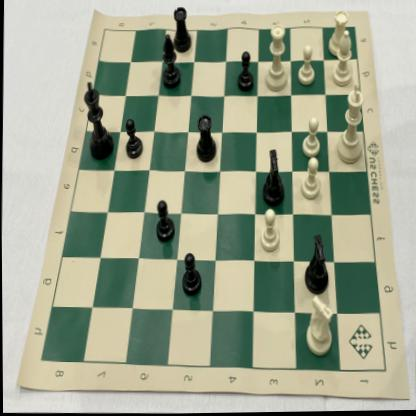black-bishop: (157, 33, 183, 93)
black-king: (79, 77, 116, 162)
black-knight: (299, 229, 333, 298), (258, 144, 287, 213)
black-pawn: (176, 247, 203, 300), (153, 194, 178, 247), (235, 49, 258, 97), (122, 113, 143, 163)
black-rook: (191, 110, 219, 168), (169, 2, 194, 56)
white-bishop: (329, 30, 357, 88)
white-king: (333, 80, 367, 168)
white-knight: (300, 292, 337, 363)
white-pawn: (292, 40, 319, 91), (255, 207, 283, 256), (297, 155, 323, 205), (298, 114, 322, 162)
white-queen: (259, 20, 292, 96)
white-rook: (324, 7, 351, 60)
